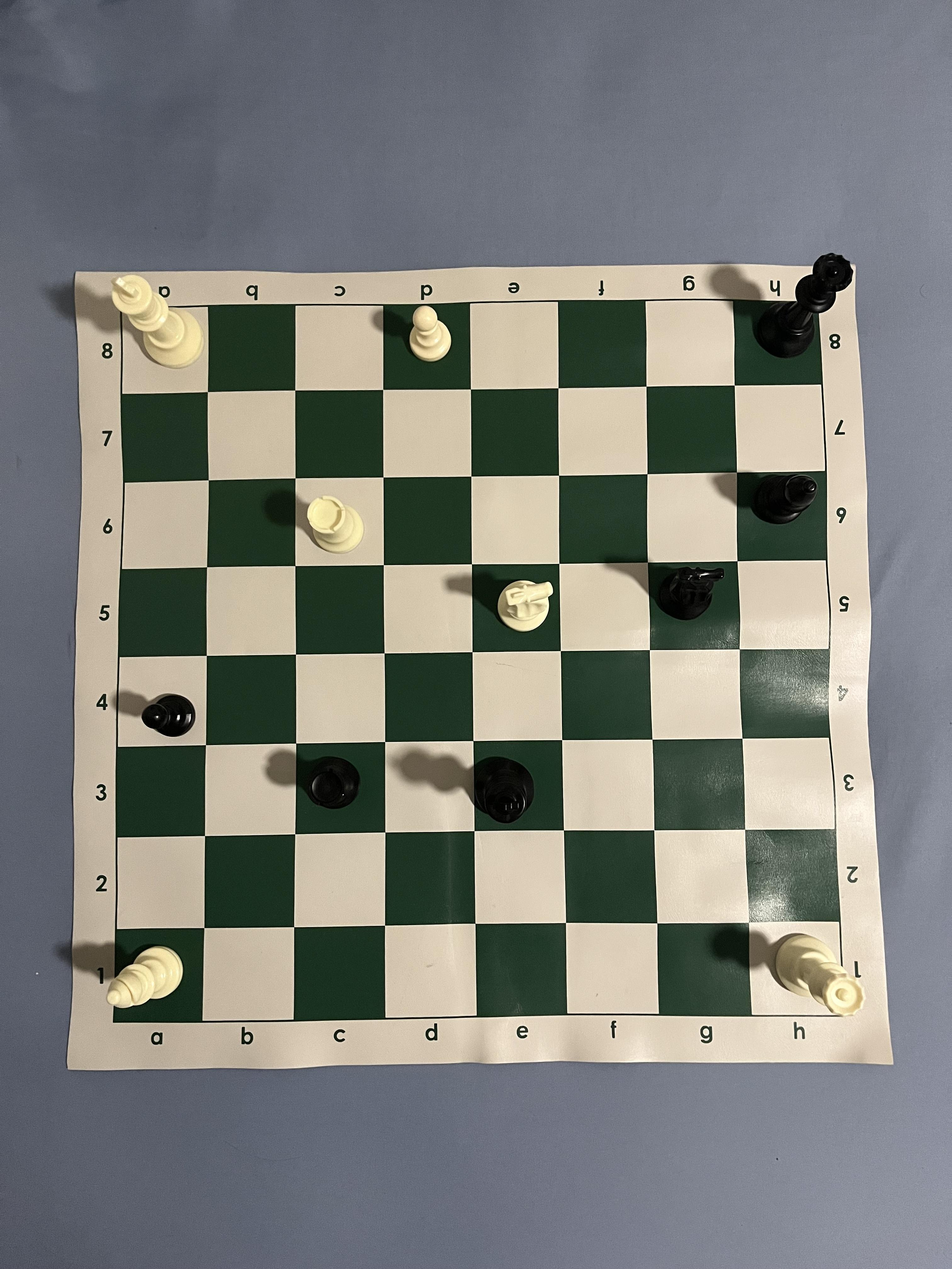black_bishop: (749, 473, 818, 526)
black_king: (473, 755, 535, 824)
black_knight: (658, 566, 725, 621)
black_pawn: (139, 693, 196, 737)
black_queen: (752, 252, 853, 358)
black_rook: (298, 756, 361, 810)
white_bishop: (105, 944, 184, 1009)
white_king: (111, 273, 204, 369)
white_knight: (496, 579, 554, 633)
white_pawn: (408, 304, 452, 362)
white_queen: (774, 933, 866, 1017)
white_rook: (307, 496, 366, 554)
